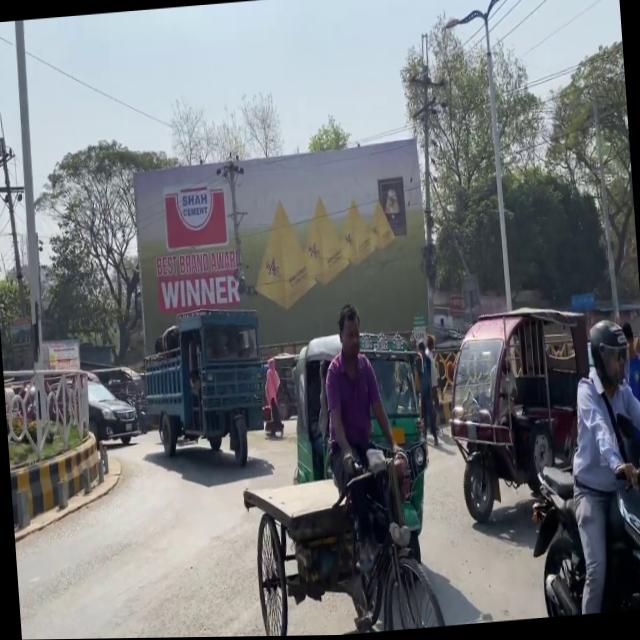Construction-barrier: (9, 449, 126, 544)
Fallen-tree: (525, 457, 640, 618)
Garbage-bin: (558, 317, 640, 615), (409, 336, 444, 449), (258, 356, 286, 439)
Traffic-cone: (238, 435, 445, 637), (440, 303, 600, 526), (135, 303, 271, 475)
